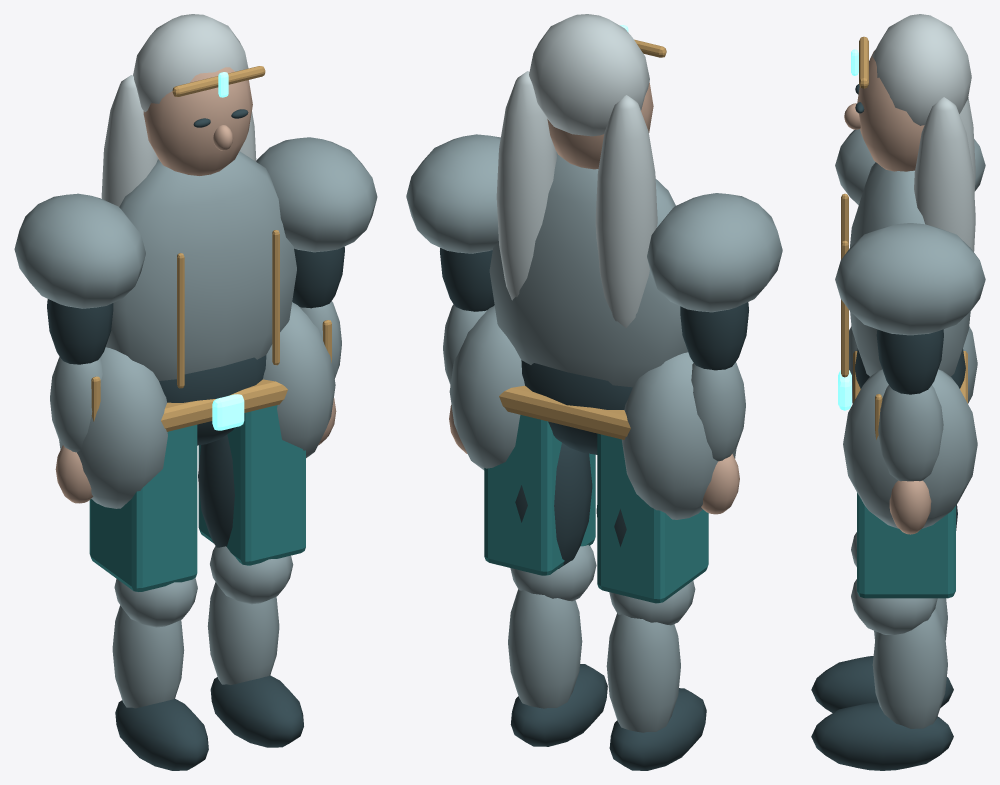
The model's file is keeper.glb.
3 views of the same model, side by side, from view 1: azimuth 30°, elevation 25°; view 2: azimuth 150°, elevation 25°; view 3: azimuth 270°, elevation 25° (orthographic). The views are drawn at different scales.
Parts seen in each view (by area): view 1: Breastplate, Pauldron, Tabard, Tabard.001, Hip guard, Pauldron.001, Face, Hip guard.001, Hair cap, Greave, Greave.001, Boot.001 (+16 smaller); view 2: Breastplate, Pauldron, Tabard, Hip guard, Long hair, Hair cap, Tabard.001, Pauldron.001, Long hair.001, Hip guard.001, Greave.001, Greave (+13 smaller); view 3: Pauldron.001, Hip guard.001, Tabard.001, Hair cap, Greave.001, Long hair.001, Boot.001, Breastplate, Bracer.001, Face, Upper arm.001, Boot (+13 smaller).
Boxes of the visible parts, x1,y1,x2,y2 form: Breastplate: (105,151,296,380); Pauldron: (14,193,145,308); Tabard: (89,424,197,591); Tabard.001: (198,405,305,565); Hip guard: (59,347,167,508); Pauldron.001: (256,137,377,252); Face: (143,67,252,175); Hip guard.001: (263,302,335,457); Hair cap: (133,14,248,111); Greave: (112,605,184,708); Greave.001: (207,582,279,684); Boot.001: (210,675,303,747); Breastplate: (489,152,687,387); Pauldron: (647,193,782,312); Tabard: (597,433,708,603); Hip guard: (622,352,736,519); Long hair: (595,95,657,327); Hair cap: (529,14,649,136); Tabard.001: (484,415,595,575); Pauldron.001: (406,134,500,253); Long hair.001: (496,71,556,300); Hip guard.001: (449,305,524,470); Greave.001: (508,589,582,708); Greave: (606,613,680,732); Pauldron.001: (835,223,985,335); Hip guard.001: (843,369,977,528); Tabard.001: (857,493,955,598); Hair cap: (872,14,971,125); Greave.001: (872,609,947,728); Long hair.001: (914,97,975,251); Boot.001: (811,702,953,770); Breastplate: (850,162,970,376); Bracer.001: (878,385,943,481); Face: (857,50,924,171); Upper arm.001: (876,329,943,394); Boot: (811,656,953,712).
Size of the model in its own units: 1 by 2.01 by 0.44.
